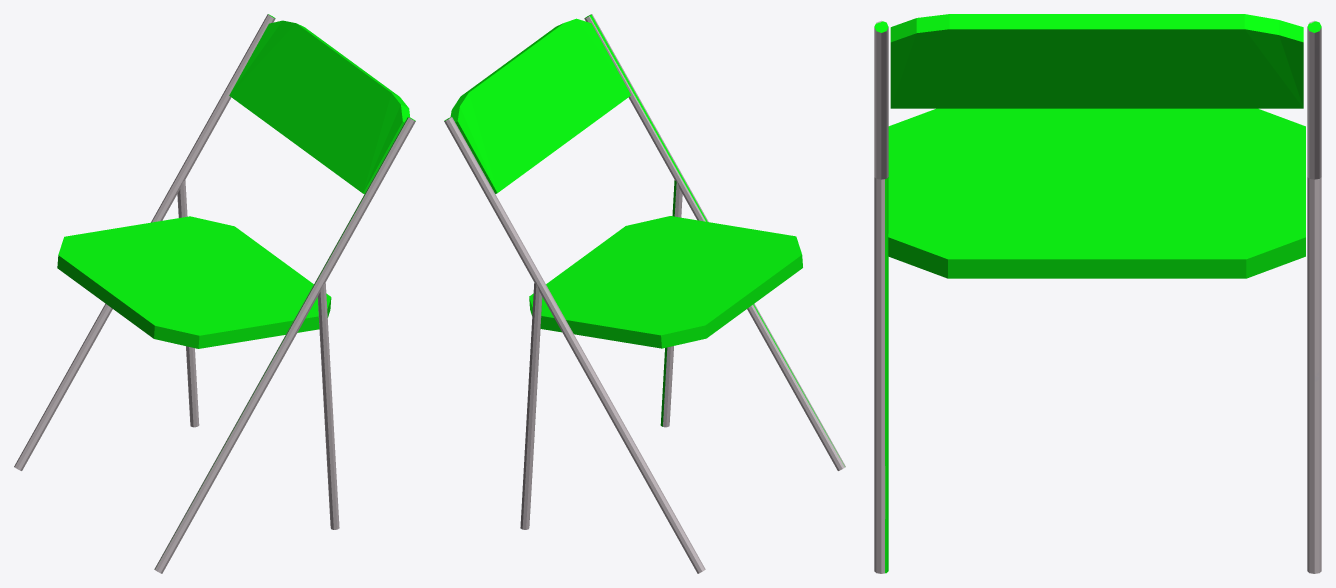
The model's file is CHAIR.obj.
3 views of the same model, side by side, from view 1: azimuth 30°, elevation 25°; view 2: azimuth 150°, elevation 25°; view 3: azimuth 270°, elevation 25° (orthographic). The views are drawn at different scales.
Visible parts, largest first — view 1: Circle.003; view 2: Circle.003; view 3: Circle.003.
Boxes of the visible parts, <box> form: Circle.003: <box>14,14,415,573</box>; Circle.003: <box>444,14,845,573</box>; Circle.003: <box>874,14,1321,573</box>.
Size of the model in its own units: 0.5007 by 0.7207 by 0.4705.
